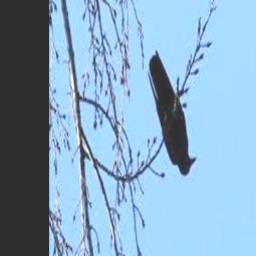Crow: (148, 49, 197, 178)
